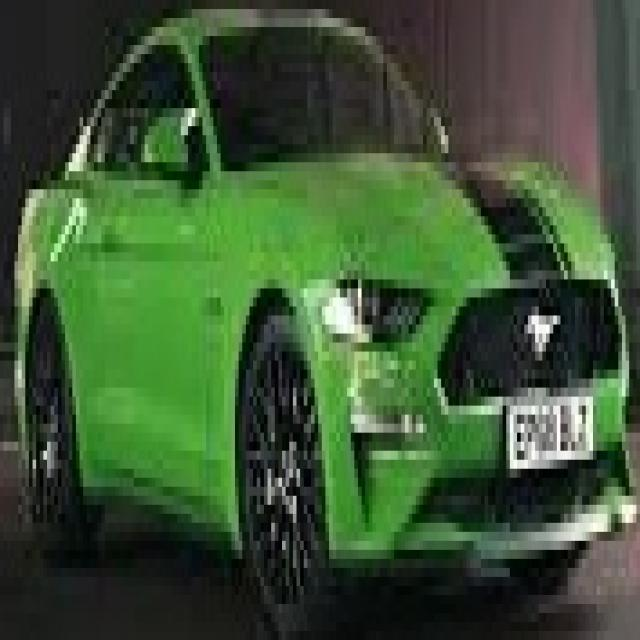green: (17, 14, 637, 640)
